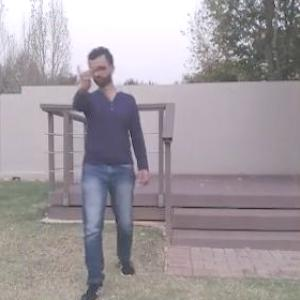takeoff-hand: (70, 56, 100, 95)
